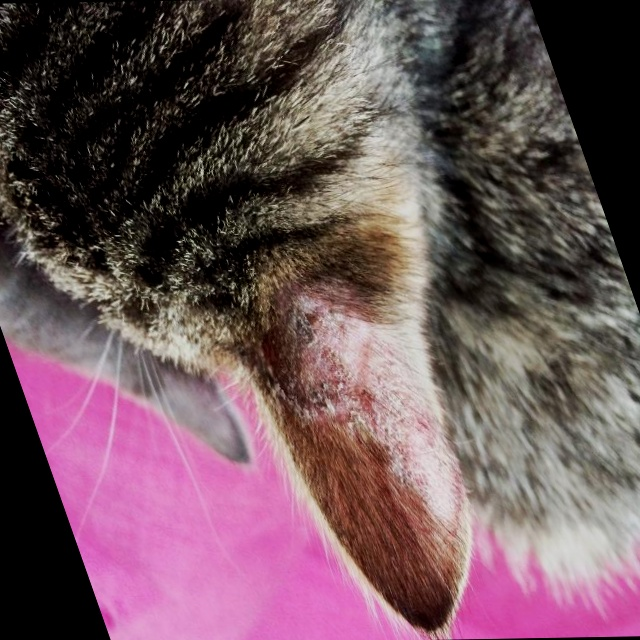ringworm: (272, 290, 481, 530)
